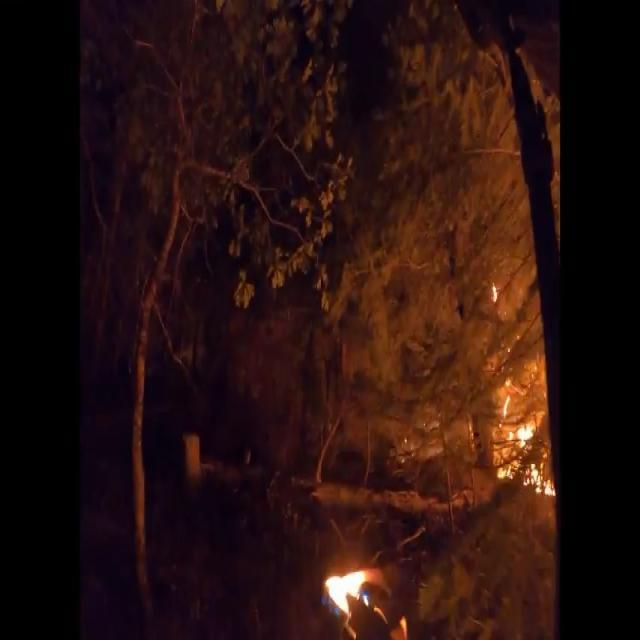Fire: (464, 278, 558, 500), (322, 558, 407, 638)
